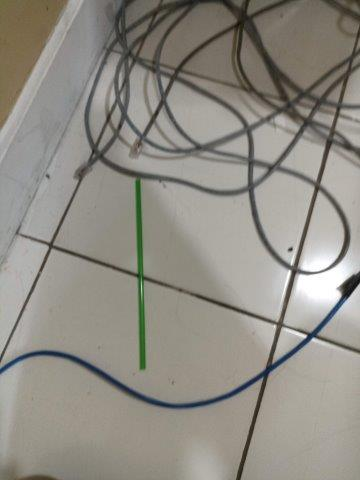sedotan: (135, 177, 146, 370)
